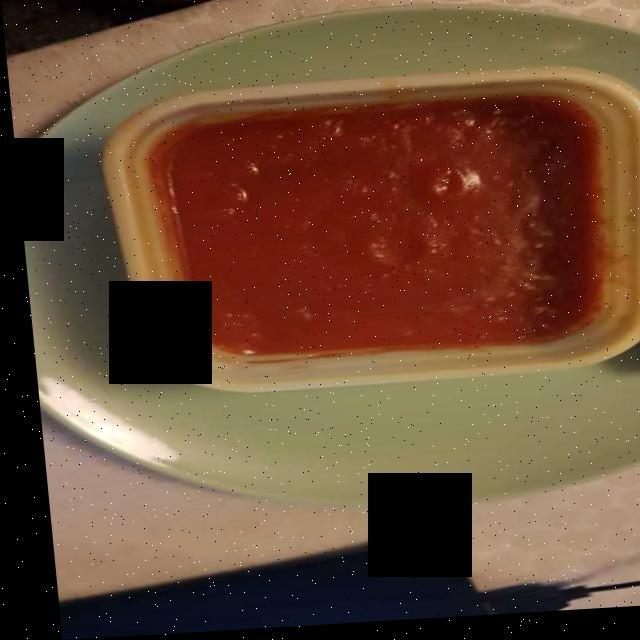tomato-sauce: (127, 102, 615, 363)
